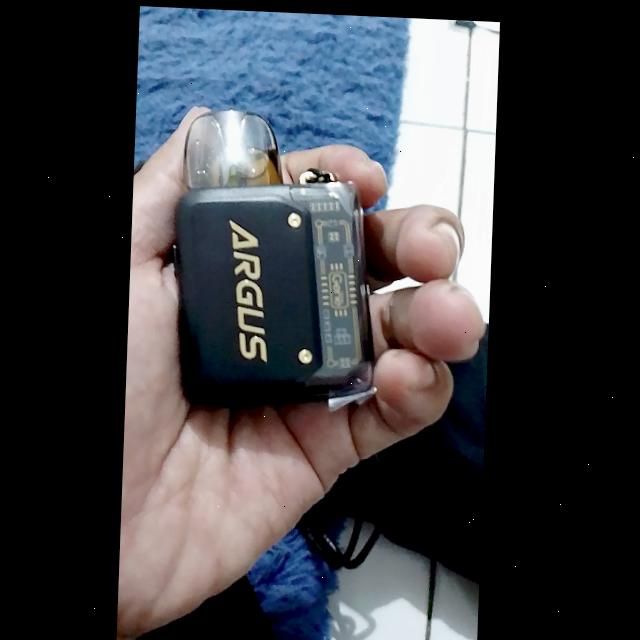vape: (169, 101, 391, 417)
